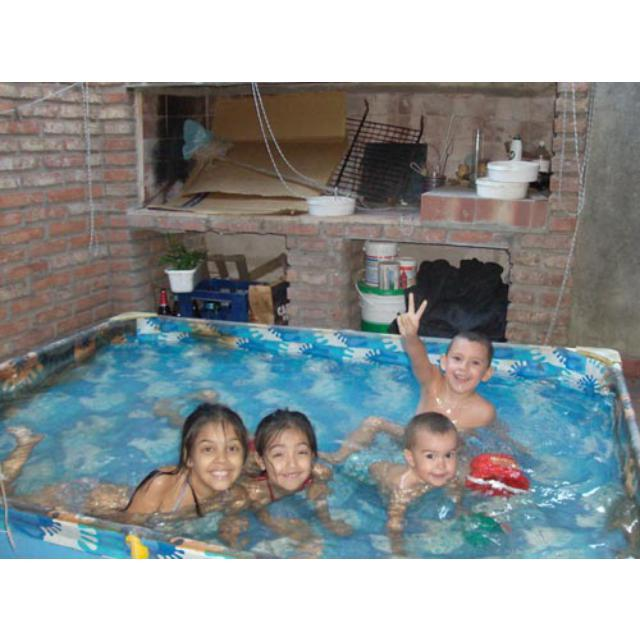human: (92, 402, 248, 527), (241, 400, 345, 557), (399, 293, 505, 431), (360, 410, 462, 540)
